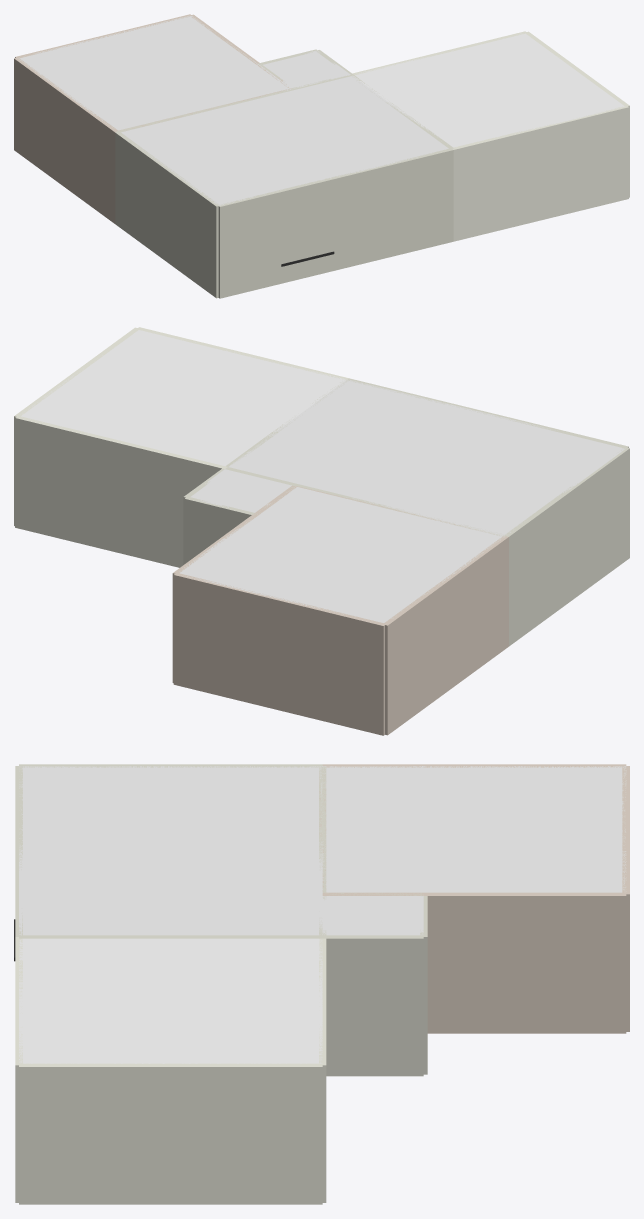
File: advanced_realistic_home.obj
3 renders of one model, top to bottom at view 1: azimuth 30°, elevation 25°; view 2: azimuth 150°, elevation 25°; view 3: azimuth 270°, elevation 25°, orthographic. The views are drawn at different scales.
Parts seen in each view (by area): view 1: LivingRoom_ceiling, LivingRoom_wall_front, Bedroom_ceiling, Kitchen_ceiling, Kitchen_wall_front, LivingRoom_wall_left, Bedroom_wall_left, Bathroom_ceiling, LivingRoom_wall_back, Kitchen_wall_right, Kitchen_wall_back, Bedroom_wall_back (+1 smaller); view 2: LivingRoom_ceiling, Bedroom_ceiling, Kitchen_ceiling, Bedroom_wall_back, Kitchen_wall_back, Bedroom_wall_left, LivingRoom_wall_left, Bathroom_ceiling, Bathroom_wall_back, LivingRoom_wall_front, Bedroom_wall_right, Kitchen_wall_right (+2 smaller); view 3: LivingRoom_ceiling, Kitchen_wall_right, Kitchen_ceiling, Bedroom_ceiling, Bedroom_wall_right, Bathroom_wall_right, Bathroom_ceiling, Bedroom_wall_back, Kitchen_wall_back, Kitchen_wall_front, LivingRoom_wall_right, LivingRoom_wall_left (+4 smaller).
Boxes of the visible parts, x1=… form: LivingRoom_ceiling: x1=121, y1=76, x2=448, y2=205; LivingRoom_wall_front: x1=218, y1=148, x2=453, y2=298; Bedroom_ceiling: x1=17, y1=15, x2=291, y2=130; Kitchen_ceiling: x1=353, y1=33, x2=624, y2=147; Kitchen_wall_front: x1=453, y1=106, x2=628, y2=241; LivingRoom_wall_left: x1=115, y1=132, x2=218, y2=298; Bedroom_wall_left: x1=14, y1=58, x2=117, y2=223; Bathroom_ceiling: x1=263, y1=50, x2=350, y2=88; LivingRoom_wall_back: x1=116, y1=75, x2=351, y2=132; Kitchen_wall_right: x1=525, y1=31, x2=629, y2=197; Kitchen_wall_back: x1=352, y1=31, x2=527, y2=75; Bedroom_wall_back: x1=15, y1=14, x2=191, y2=58; LivingRoom_ceiling: x1=229, y1=379, x2=625, y2=535; Bedroom_ceiling: x1=179, y1=486, x2=504, y2=622; Kitchen_ceiling: x1=17, y1=330, x2=346, y2=466; Bedroom_wall_back: x1=173, y1=573, x2=385, y2=735; Kitchen_wall_back: x1=15, y1=416, x2=227, y2=567; Bedroom_wall_left: x1=384, y1=536, x2=508, y2=735; LivingRoom_wall_left: x1=504, y1=447, x2=629, y2=646; Bathroom_ceiling: x1=190, y1=469, x2=291, y2=512; Bathroom_wall_back: x1=184, y1=497, x2=257, y2=563; LivingRoom_wall_front: x1=346, y1=378, x2=628, y2=448; Bedroom_wall_right: x1=172, y1=485, x2=296, y2=682; Kitchen_wall_right: x1=14, y1=327, x2=139, y2=525; LivingRoom_ceiling: x1=19, y1=766, x2=322, y2=935; Kitchen_wall_right: x1=19, y1=1063, x2=322, y2=1204; Kitchen_ceiling: x1=19, y1=938, x2=322, y2=1063; Bedroom_ceiling: x1=322, y1=766, x2=626, y2=892; Bedroom_wall_right: x1=322, y1=892, x2=626, y2=1033; Bathroom_wall_right: x1=322, y1=935, x2=423, y2=1076; Bathroom_ceiling: x1=322, y1=896, x2=423, y2=935; Bedroom_wall_back: x1=622, y1=766, x2=629, y2=1031; Kitchen_wall_back: x1=319, y1=938, x2=326, y2=1202; Kitchen_wall_front: x1=15, y1=937, x2=22, y2=1202; LivingRoom_wall_right: x1=19, y1=935, x2=322, y2=938; LivingRoom_wall_left: x1=19, y1=764, x2=322, y2=767.
Size of the model in its own units: 14.15 by 3 by 12.17.
